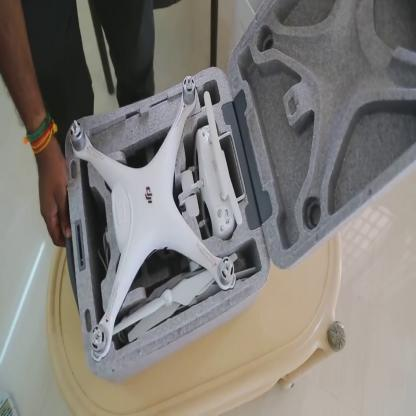drone: (66, 70, 244, 366)
